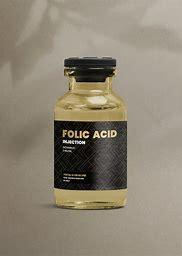Syringe: (45, 44, 135, 218)
